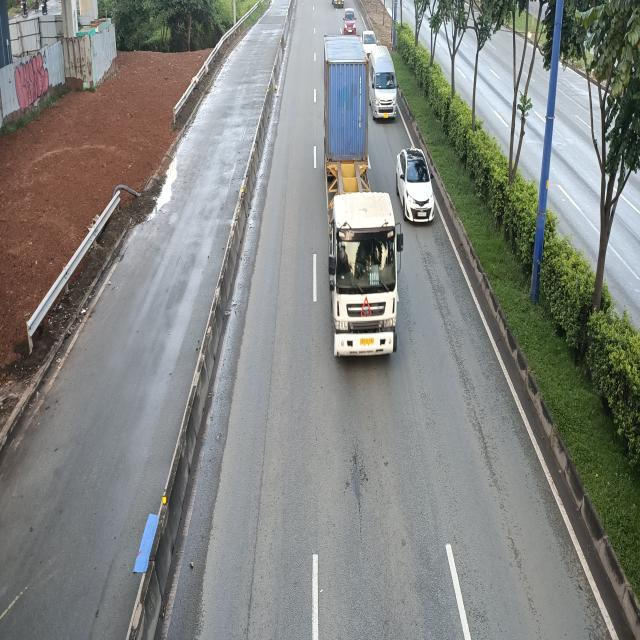car: (397, 147, 434, 223)
container: (318, 34, 400, 357)
van: (368, 42, 397, 122)
